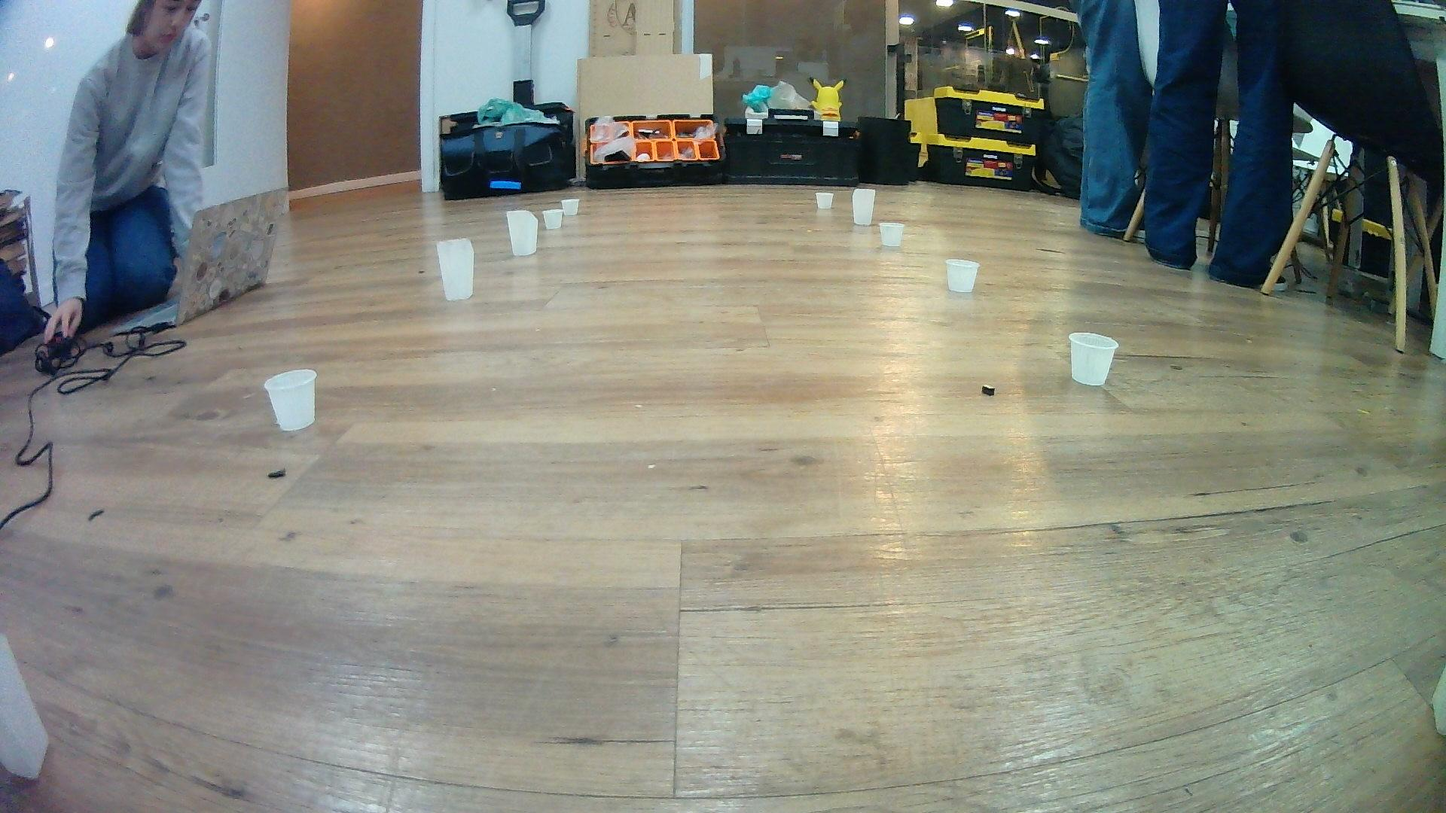erva_daninha: (0, 632, 49, 783), (435, 238, 476, 302), (506, 210, 540, 258), (1432, 664, 1446, 741), (851, 187, 877, 227)
planta: (264, 368, 319, 432), (1066, 332, 1120, 386), (945, 259, 981, 294), (880, 221, 906, 249), (541, 209, 564, 231), (560, 197, 581, 218), (815, 192, 834, 211)
